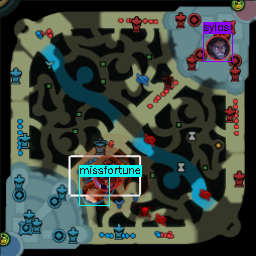missfortune: (81, 180, 104, 203)
sylas: (205, 36, 230, 60)
talon: (92, 166, 117, 191)
